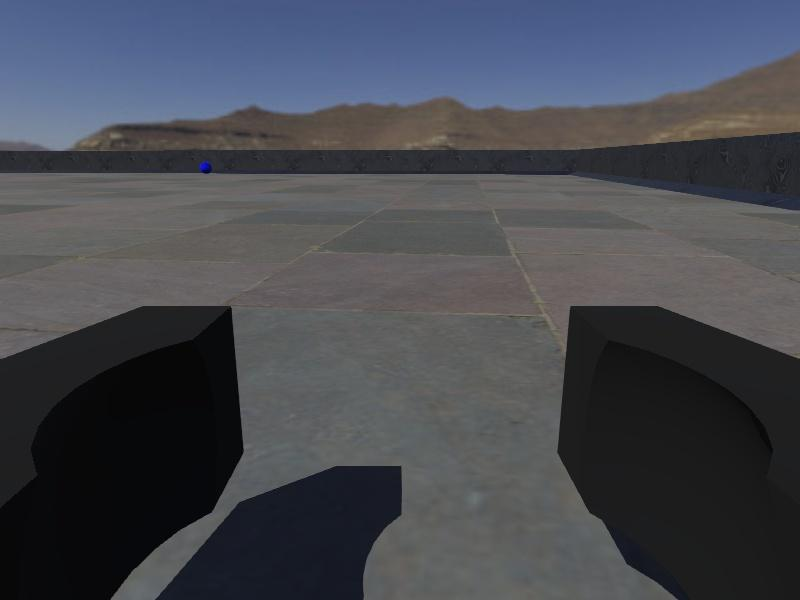blue ball: (198, 160, 212, 175)
